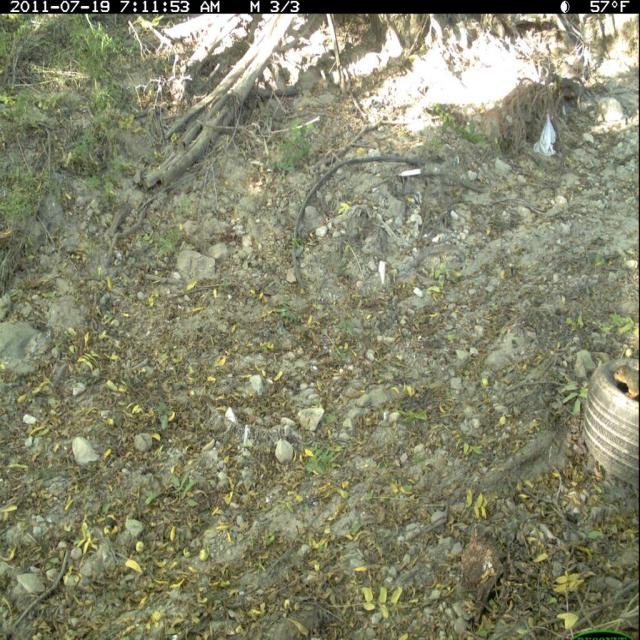squirrel: (607, 357, 639, 411)
